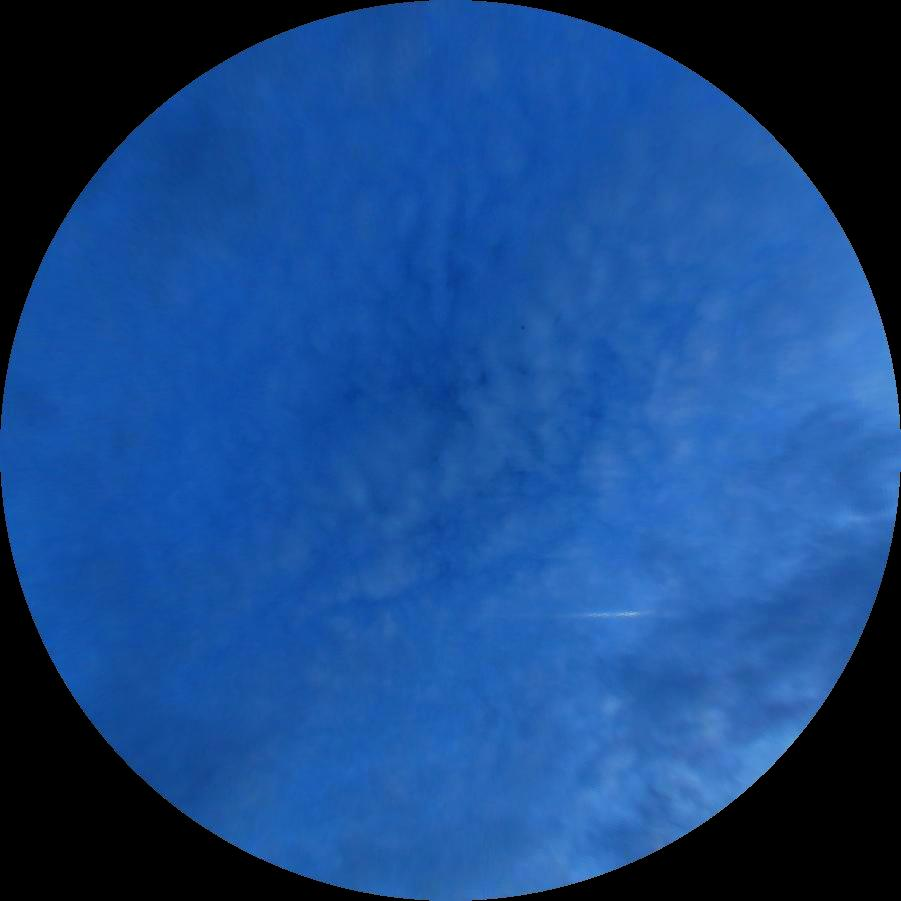unknow: (544, 610, 652, 621)
